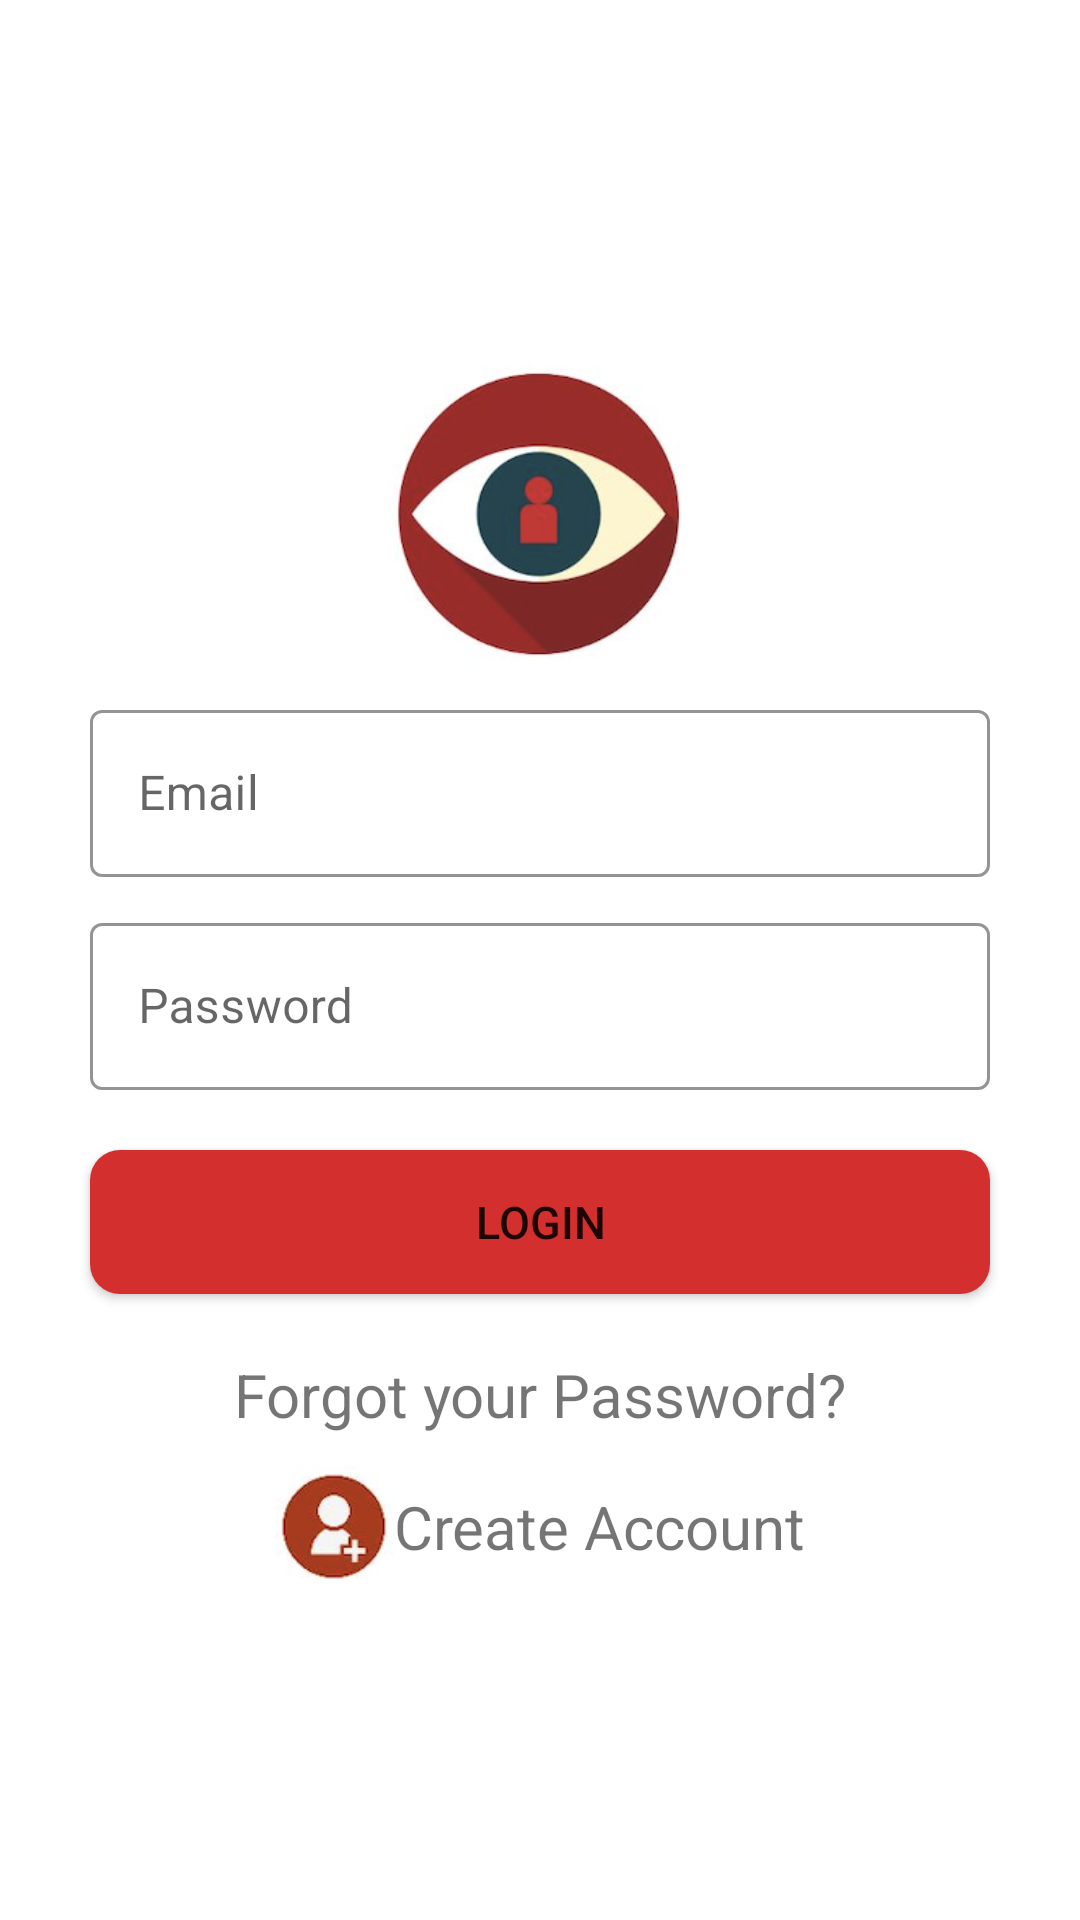

Icon click points for this 1080*1920 phone screenshot, format point (x, y):
eye: point (539, 514)
user: point (334, 1526)
